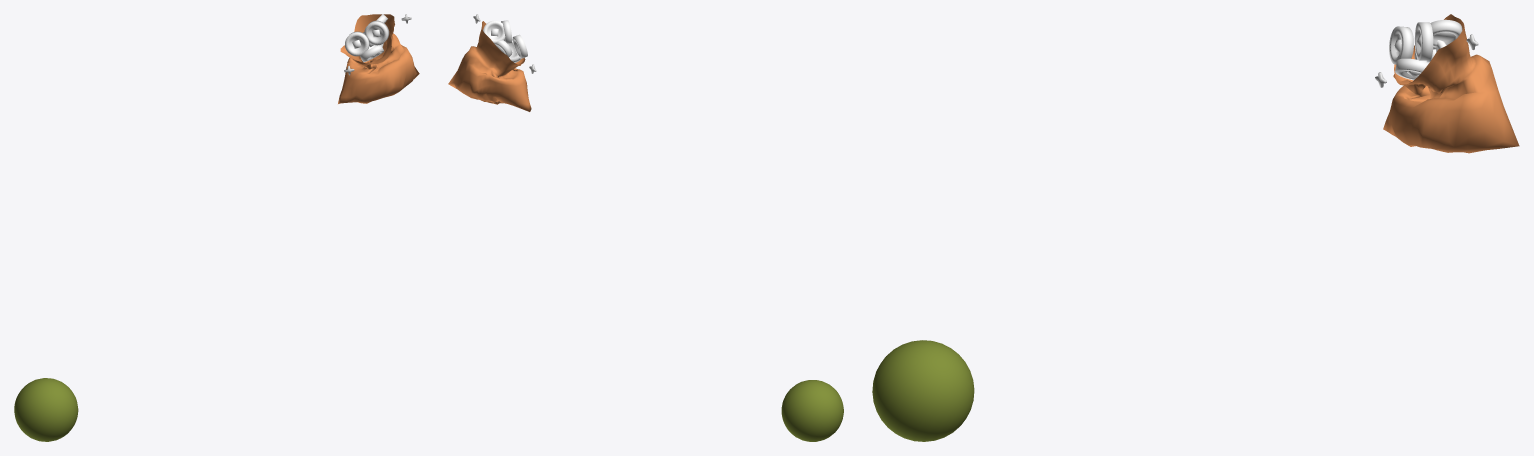
The model's file is globe.glb.
3 views of the same model, side by side, from view 1: azimuth 30°, elevation 25°; view 2: azimuth 150°, elevation 25°; view 3: azimuth 330°, elevation 25° (orthographic). The views are drawn at different scales.
Parts seen in each view (by area): view 1: Roundcube, Sphere.002, Cylinder.004, Cylinder.002; view 2: Roundcube, Sphere.002; view 3: Roundcube, Sphere.002, Cylinder.004, Cylinder.002, Cylinder.003.
Part boxes in pixels (x1=…): Roundcube: x1=338, y1=14, x2=419, y2=103; Sphere.002: x1=14, y1=378, x2=78, y2=441; Cylinder.004: x1=345, y1=31, x2=369, y2=56; Cylinder.002: x1=364, y1=20, x2=389, y2=45; Roundcube: x1=448, y1=21, x2=531, y2=111; Sphere.002: x1=781, y1=380, x2=843, y2=441; Roundcube: x1=1383, y1=14, x2=1519, y2=153; Sphere.002: x1=872, y1=340, x2=974, y2=441; Cylinder.004: x1=1389, y1=26, x2=1413, y2=64; Cylinder.002: x1=1414, y1=22, x2=1433, y2=60; Cylinder.003: x1=1430, y1=19, x2=1462, y2=47.
Size of the model in its own units: 32.62 by 26.85 by 4.76.
